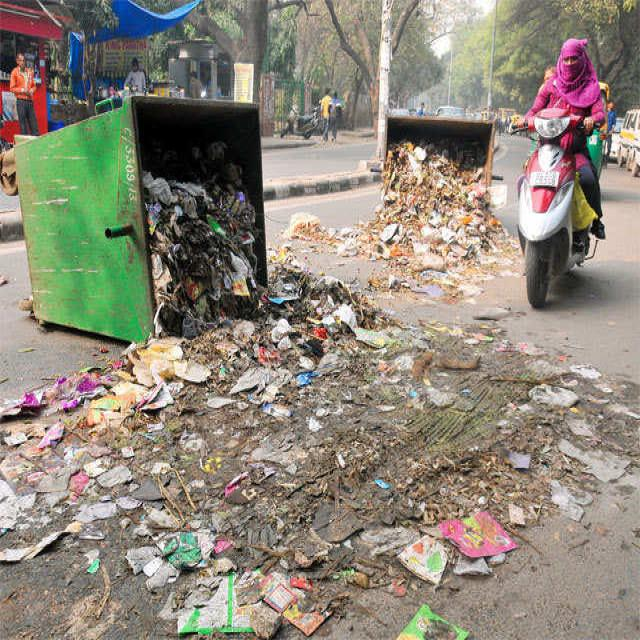garbage: (0, 92, 640, 640)
